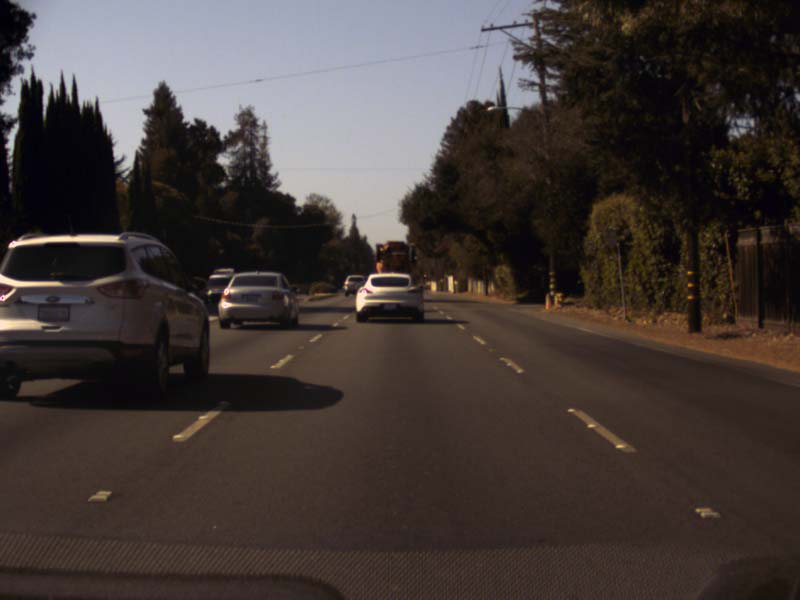Red: (422, 272, 426, 279)
